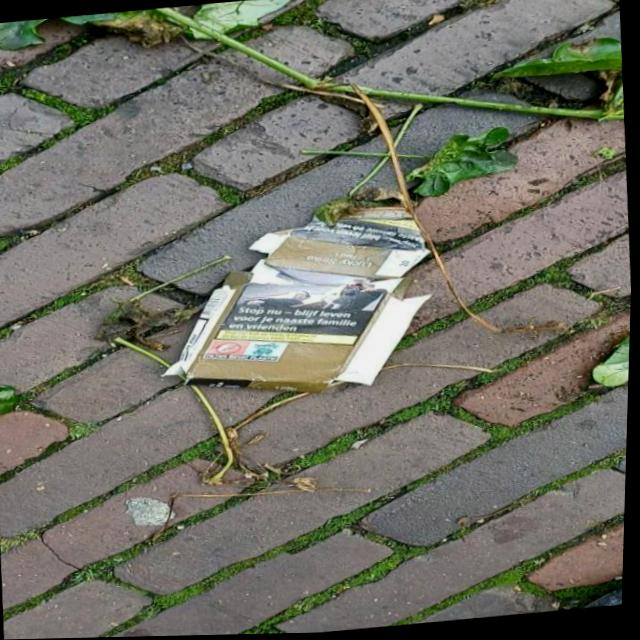Paper: (143, 200, 444, 410)
